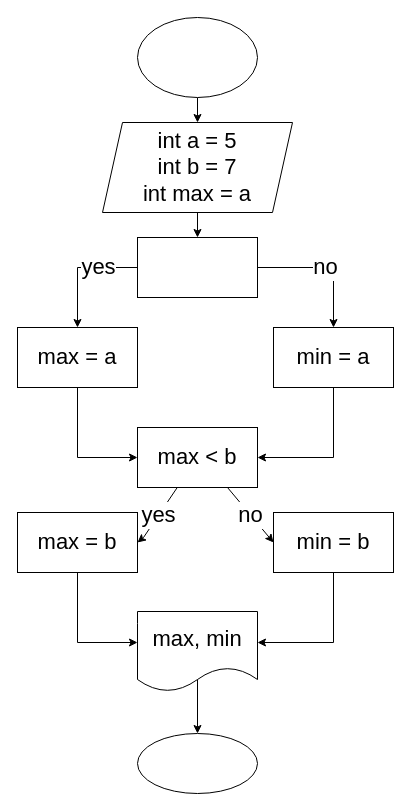
This 411x811 diagram has some shape labels left out. The box of each missing label's shape, as (x1, y1, x2, y2) in pixels:
end: (136, 732, 258, 794)
max < a: (136, 236, 258, 298)
Start: (136, 16, 258, 98)
